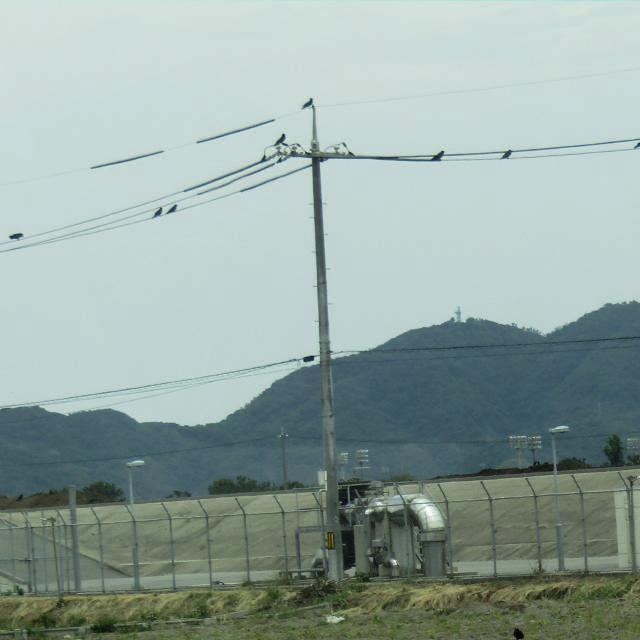pole: (304, 99, 343, 586)
wire: (0, 336, 640, 409), (75, 344, 640, 416), (0, 160, 316, 255), (0, 150, 284, 245), (84, 105, 310, 172), (313, 66, 640, 110), (316, 146, 640, 164)
